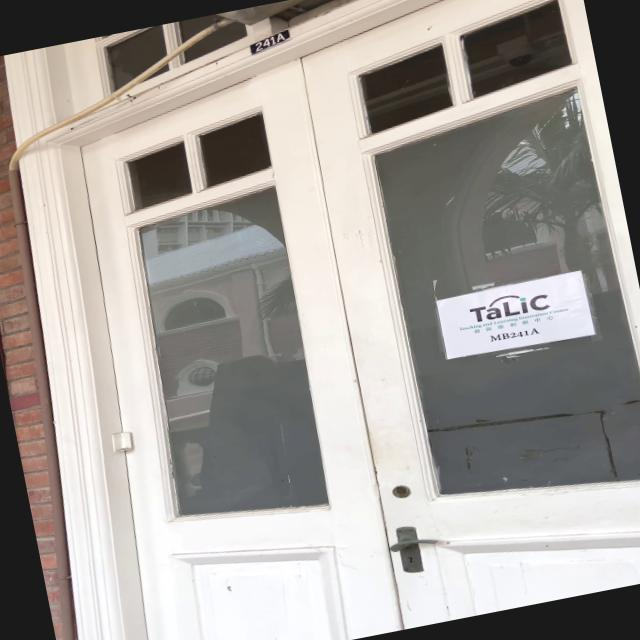room241a: (243, 26, 296, 59)
